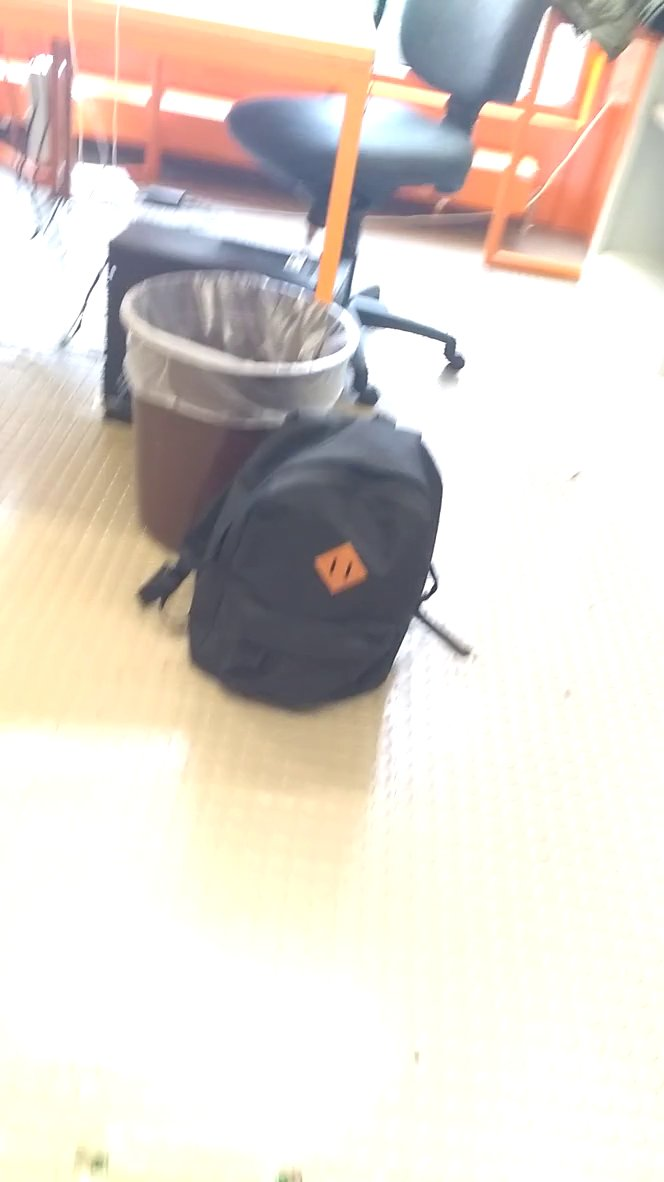bag: (138, 392, 453, 722)
bin: (118, 255, 377, 468)
chair: (227, 1, 570, 402)
